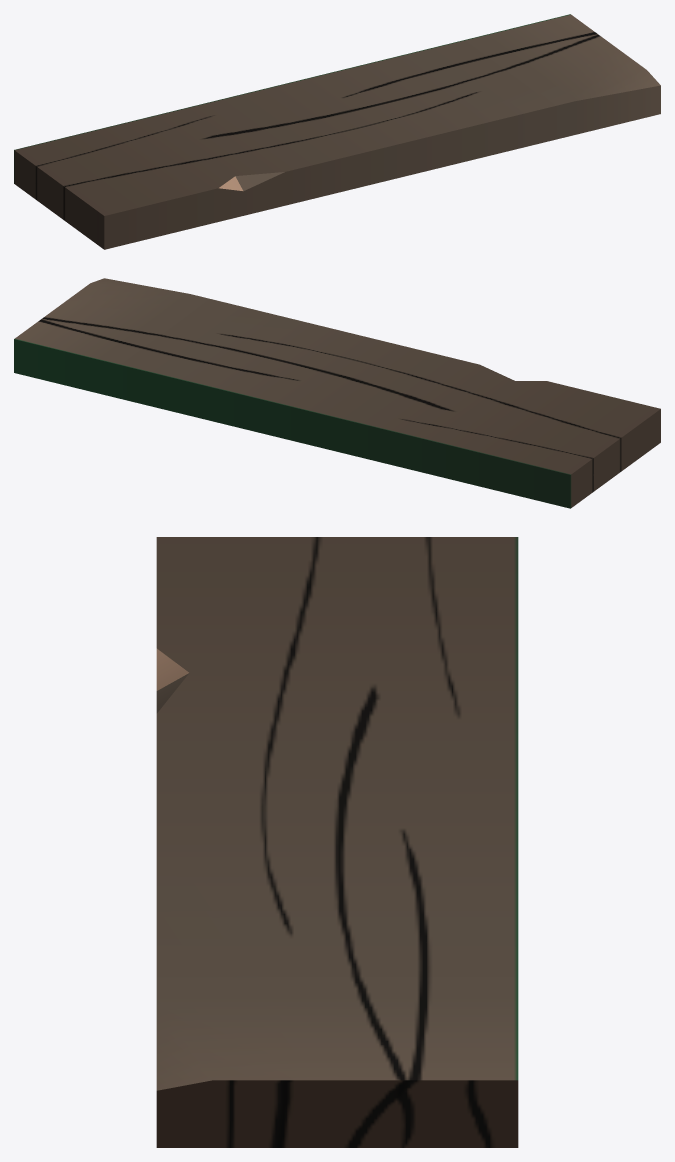
Rendered from Wood_Plank_04.fbx.
The picture shows the model from 3 angles, top to bottom: view 1: azimuth 30°, elevation 25°; view 2: azimuth 150°, elevation 25°; view 3: azimuth 270°, elevation 25°; orthographic projection. The views are drawn at different scales.
Parts seen in each view (by area): view 1: Cube.231; view 2: Cube.231; view 3: Cube.231.
Part boxes in pixels (x1=…): Cube.231: x1=14, y1=14, x2=660, y2=249; Cube.231: x1=14, y1=278, x2=660, y2=508; Cube.231: x1=156, y1=537, x2=518, y2=1147.
Size of the model in its own units: 195 by 11.29 by 54.76.
